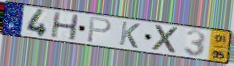3: (183, 28, 208, 58)
4: (25, 8, 49, 38)
H: (49, 11, 81, 42)
K: (118, 20, 142, 50)
P: (86, 16, 113, 44)
X: (152, 23, 181, 55)
